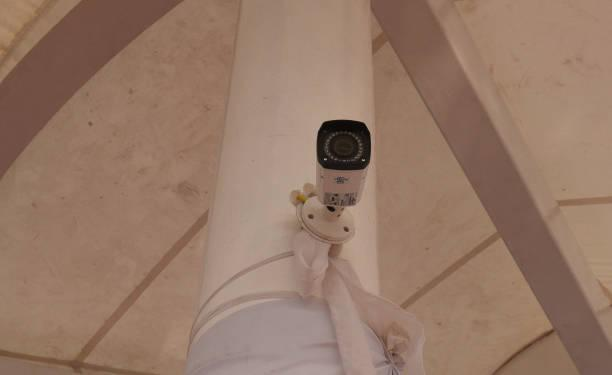camera: (289, 106, 392, 227)
